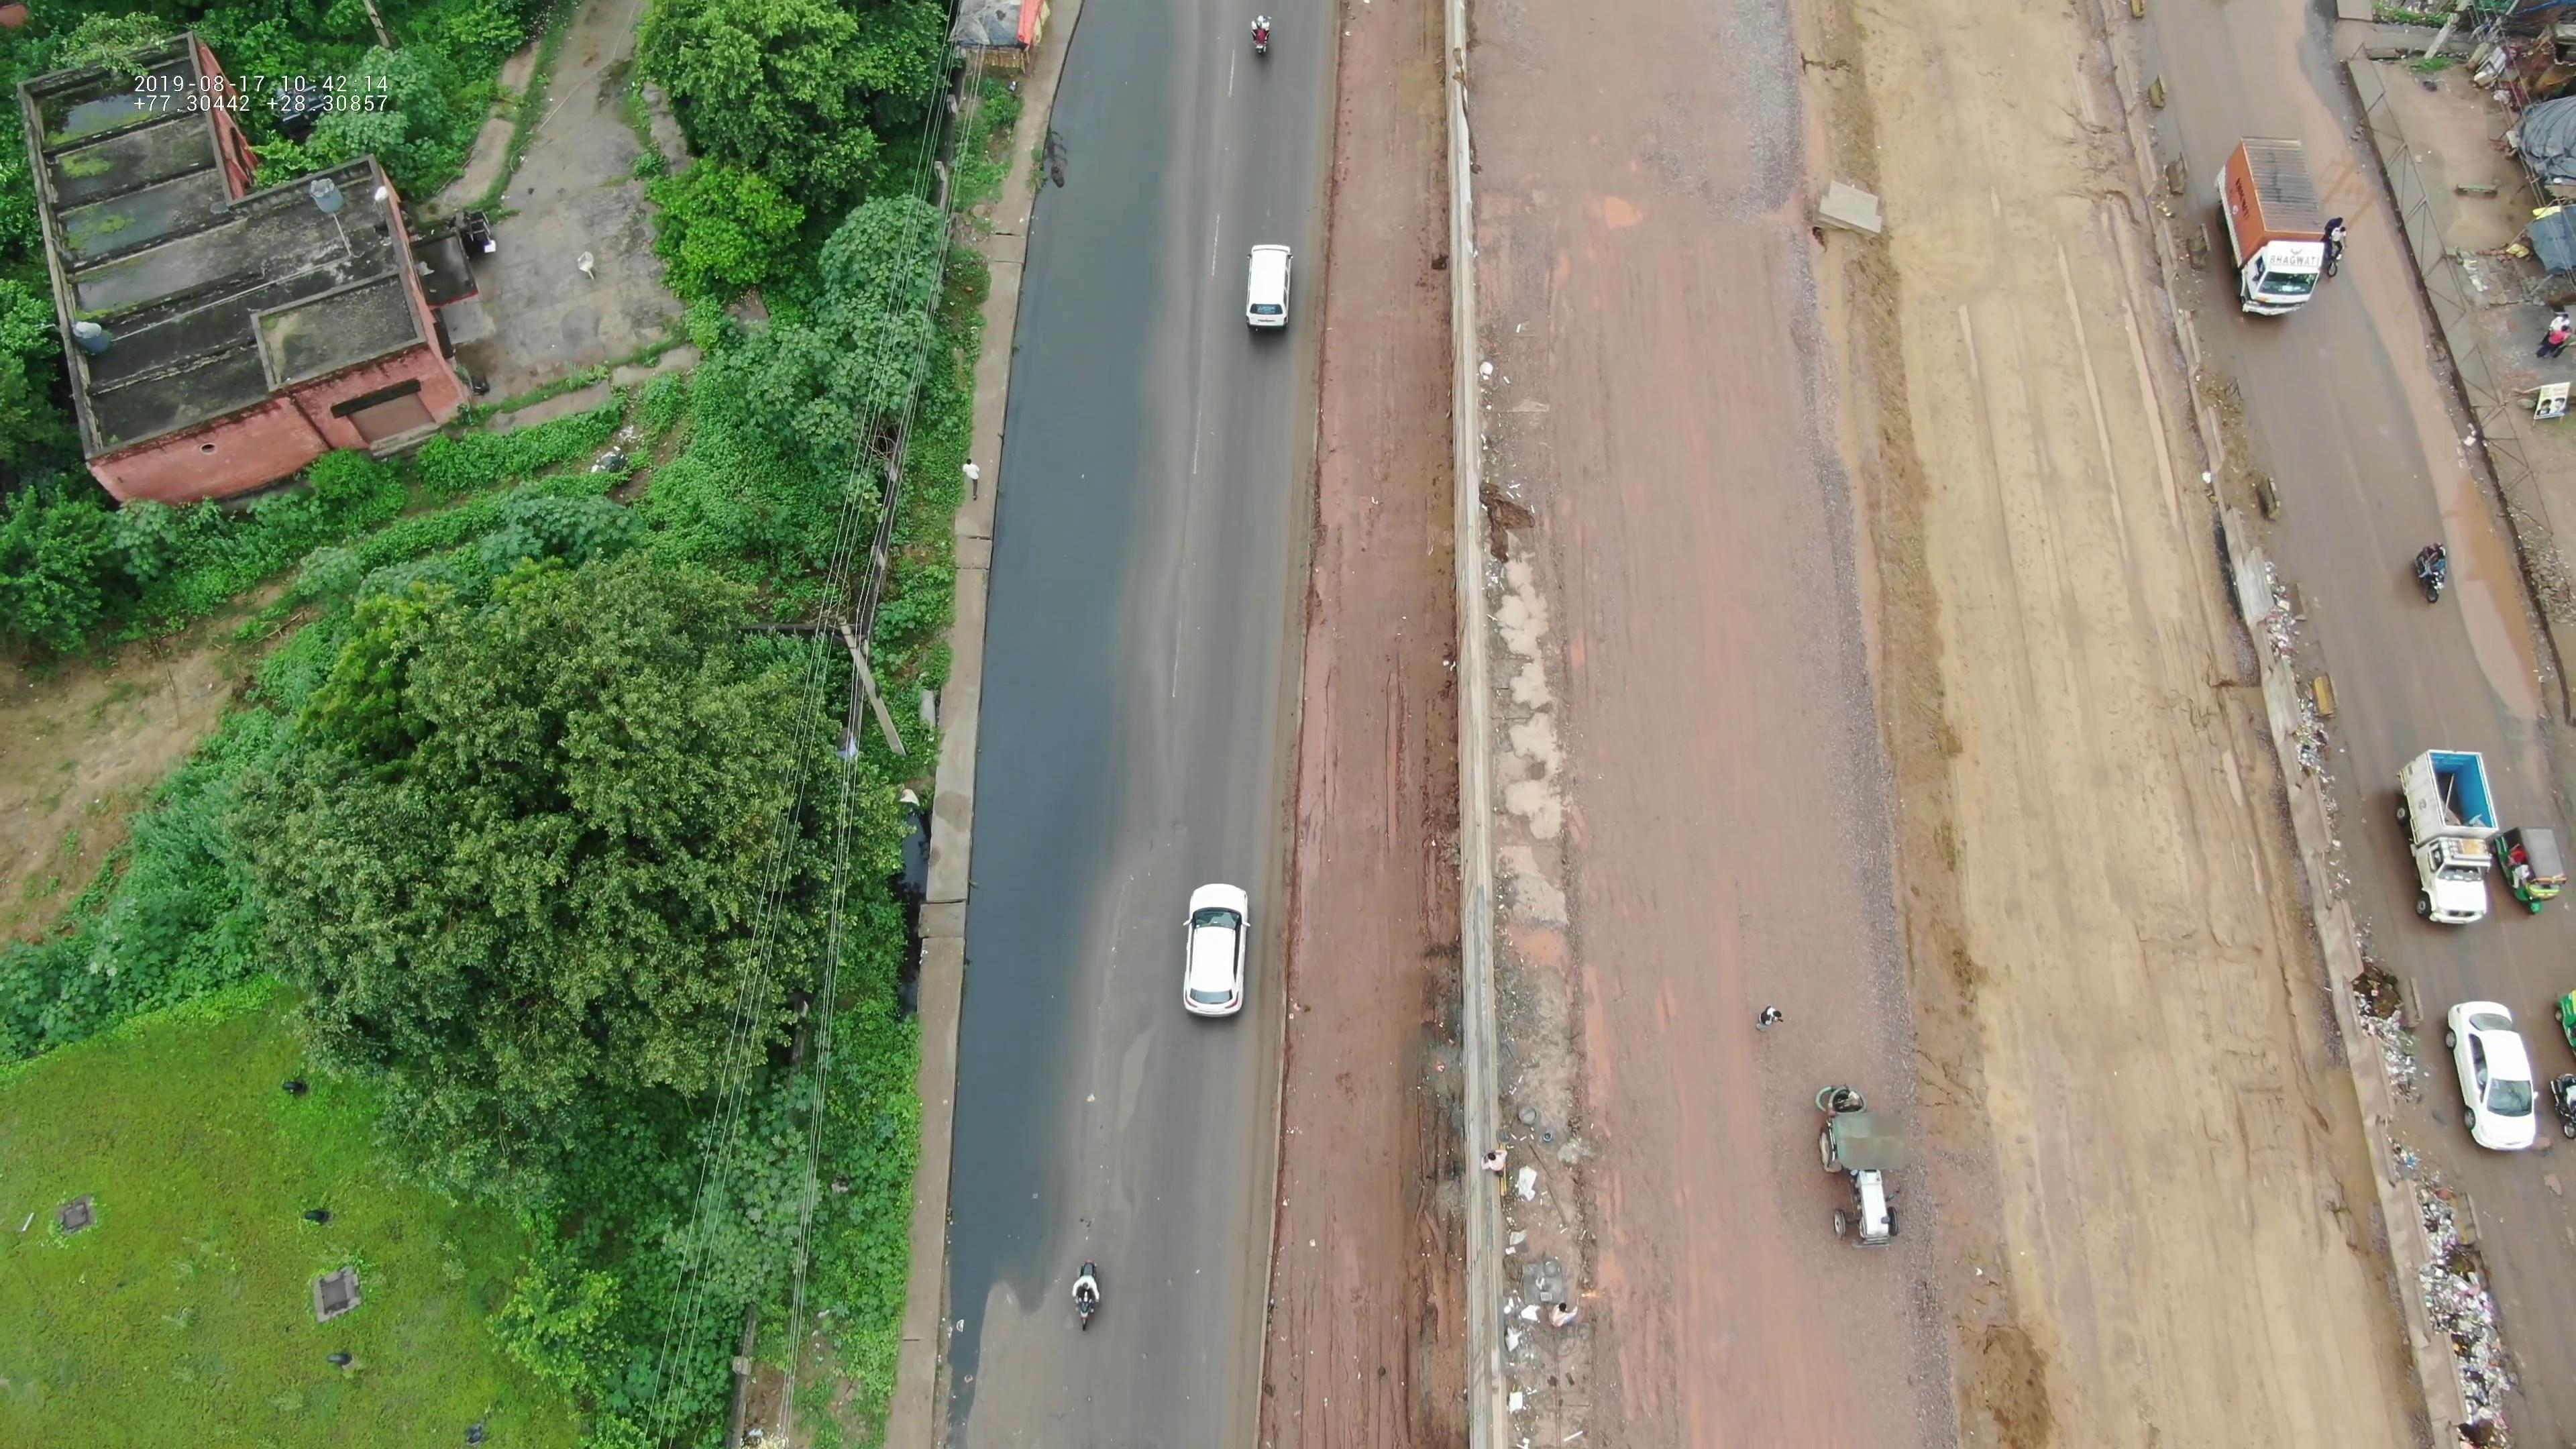Potholes: (1100, 991, 1161, 1175)
